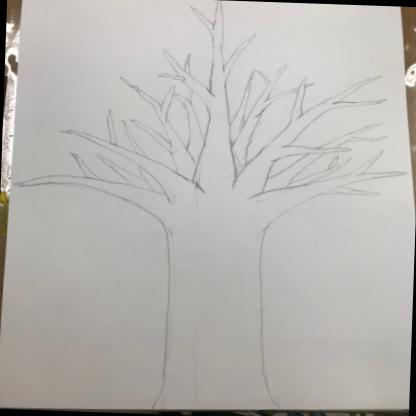branch_sharp: (15, 0, 414, 228)
trunk_straight: (152, 242, 276, 372)
